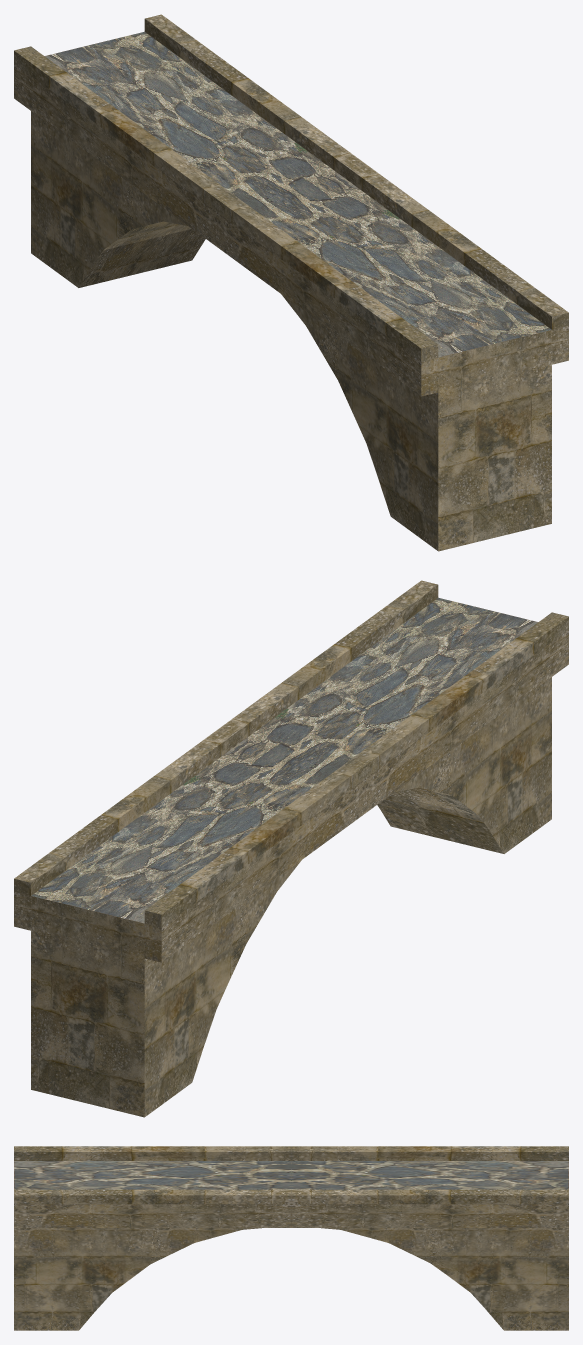
File: BridgeFlat.fbx
3 views of the same model, one above another, from view 1: azimuth 30°, elevation 25°; view 2: azimuth 150°, elevation 25°; view 3: azimuth 270°, elevation 25° (orthographic). The views are drawn at different scales.
Parts seen in each view (by area): view 1: Cube.032, Cube.033; view 2: Cube.032, Cube.033; view 3: Cube.032, Cube.033.
Part boxes in pixels (box(x1,y1,x2,y2)): Cube.032: box(14, 14, 568, 551); Cube.033: box(44, 31, 551, 357); Cube.032: box(14, 580, 568, 1117); Cube.033: box(31, 597, 538, 923); Cube.032: box(14, 1146, 568, 1330); Cube.033: box(14, 1161, 568, 1189).
Bounding box in the file's own units: 260 × 348 × 1242.
